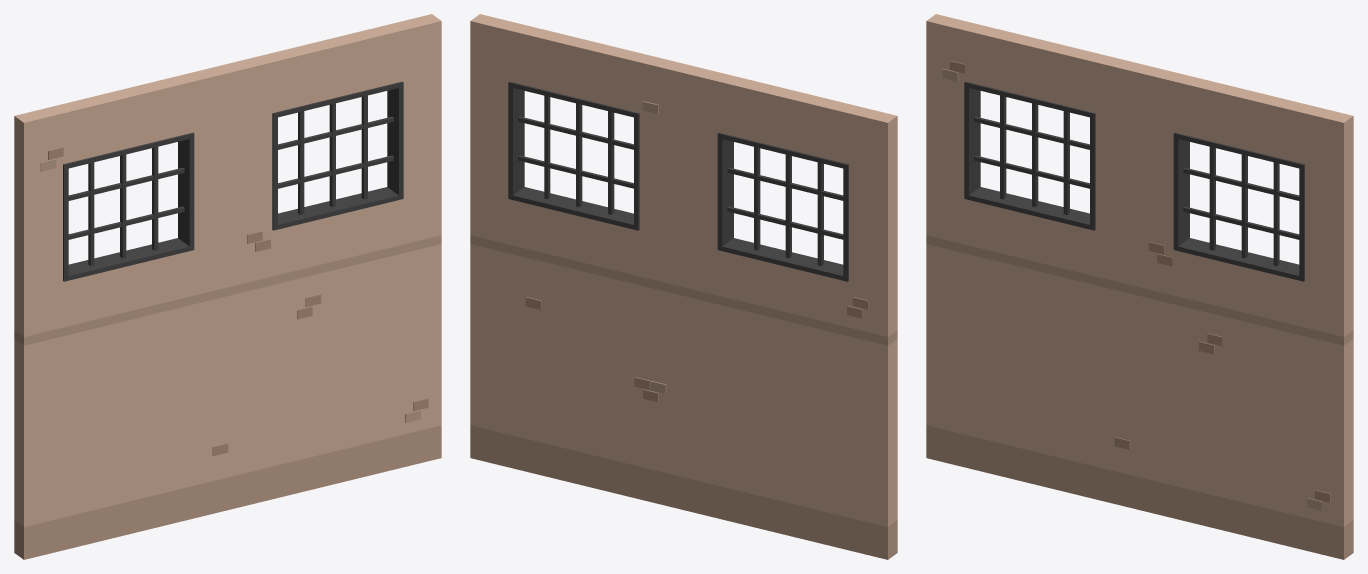
Rendered from Wall_04.fbx.
The picture shows the model from 3 angles, left to right: view 1: azimuth 30°, elevation 25°; view 2: azimuth 150°, elevation 25°; view 3: azimuth 330°, elevation 25°; orthographic projection.
Parts seen in each view (by area): view 1: Wall_04; view 2: Wall_04; view 3: Wall_04.
Part boxes in pixels (x1,y1,x2,y2): Wall_04: (14, 14, 441, 559); Wall_04: (470, 14, 897, 559); Wall_04: (926, 14, 1353, 559).
Bounding box in the file's own units: 1000 × 1000 × 48.82.
